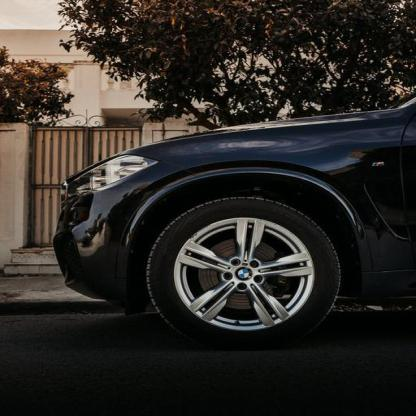Tire: (146, 194, 341, 345)
